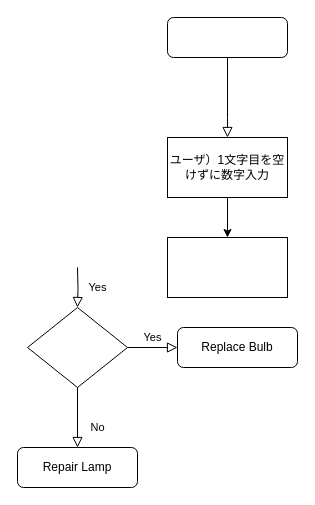
The diagram is 315 pixels wide and 505 high, and some of its shapes have lost their labels. The box of each missing label's shape, as (x1, y1, x2, y2) in pixels:
Bulb burned out?: (26, 306, 128, 388)
開始: (166, 16, 288, 58)
